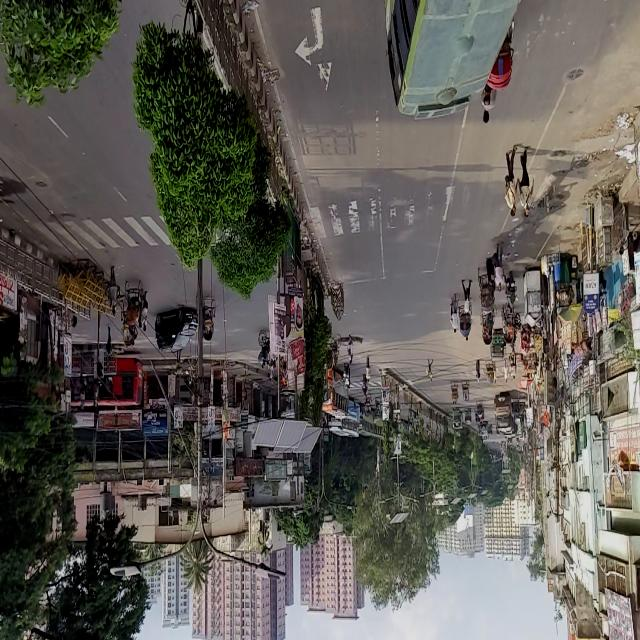black: (155, 308, 196, 355)
